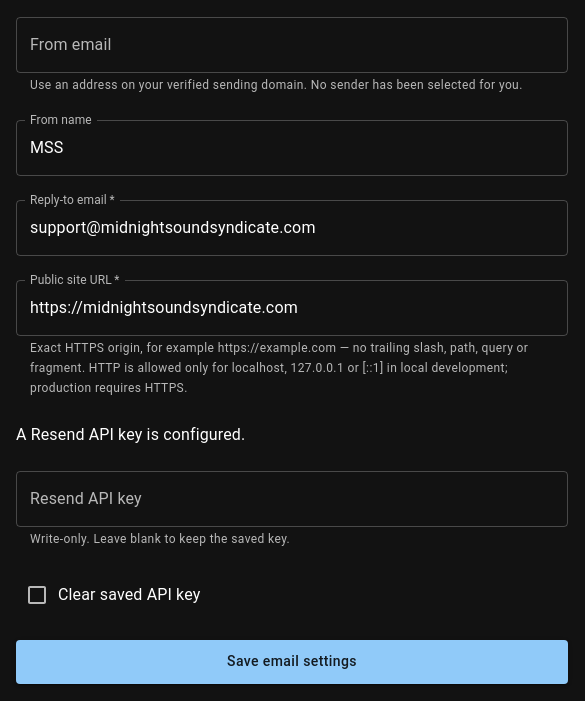
Test: never prefills the key and omits blank key updates
This screenshot has width=585, height=701.
(page scrolled)
Expected: the password field labelled "Resend API key" is empty, [16,471,568,527]
Click the button "Save email settings" at (292, 662), box [16,640,568,684]
(page scrolled)
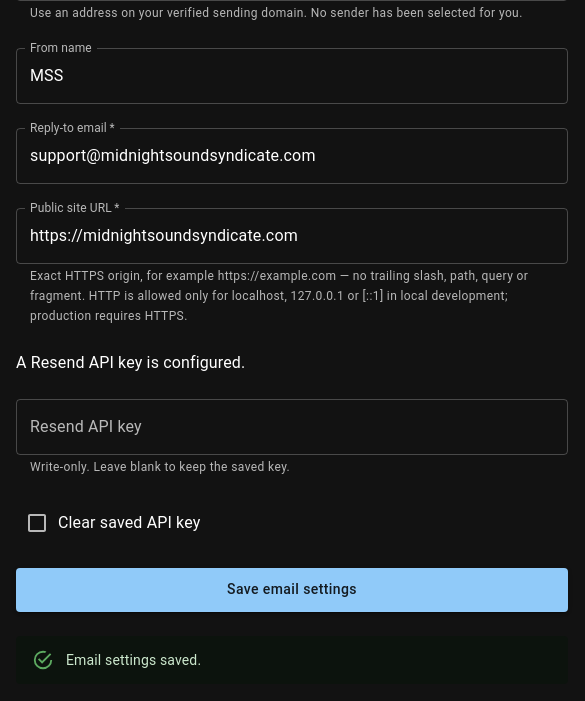
Expected: the text "Email settings saved." is shown, [66,652,201,668]
